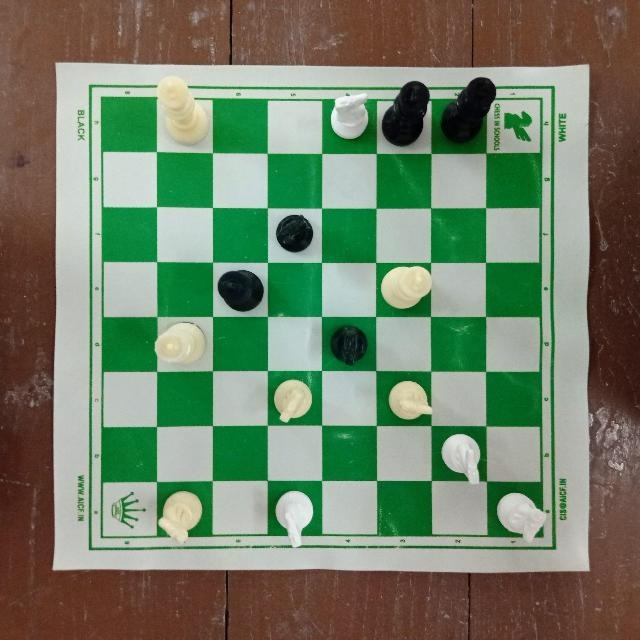black-king: (441, 72, 497, 144), (382, 77, 426, 146), (213, 264, 268, 314)
black-knight: (330, 321, 375, 369), (270, 210, 315, 257)
white-king: (153, 77, 213, 148), (378, 264, 434, 314)
white-knight: (494, 487, 549, 544), (158, 490, 206, 548), (273, 485, 317, 546), (327, 84, 371, 142), (384, 374, 435, 424), (267, 376, 317, 426), (440, 431, 484, 485)
white-queen: (149, 319, 208, 369)
